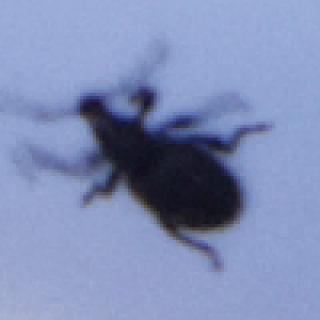bvw: (2, 38, 272, 272)
